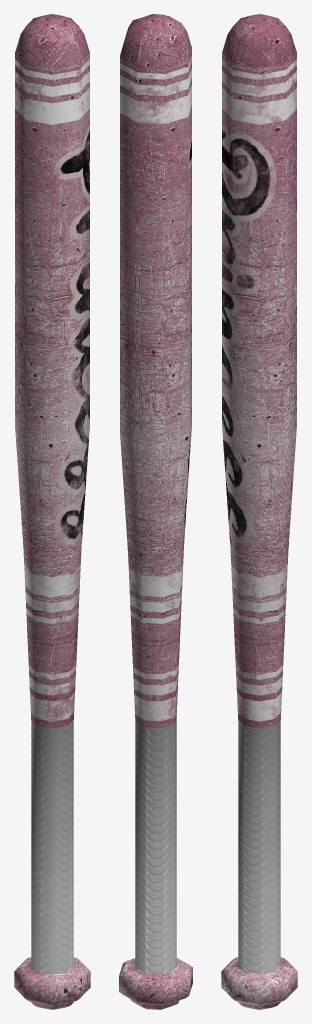
Rendered from BaseballBat_Princess_Metal(Clean).fbx.
The picture shows the model from 3 angles, left to right: view 1: azimuth 90°, elevation 25°; view 2: azimuth 150°, elevation 25°; view 3: azimuth 270°, elevation 25°; orthographic projection.
Parts seen in each view (by area): view 1: BaseballBat_Princess_Metal(Clean); view 2: BaseballBat_Princess_Metal(Clean); view 3: BaseballBat_Princess_Metal(Clean).
Boxes of the visible parts, bbox=[...] form: BaseballBat_Princess_Metal(Clean): bbox=[14, 14, 90, 1009]; BaseballBat_Princess_Metal(Clean): bbox=[119, 14, 192, 1009]; BaseballBat_Princess_Metal(Clean): bbox=[221, 14, 297, 1009].
Bounding box in the file's own units: 5.92 × 84.03 × 5.92.
